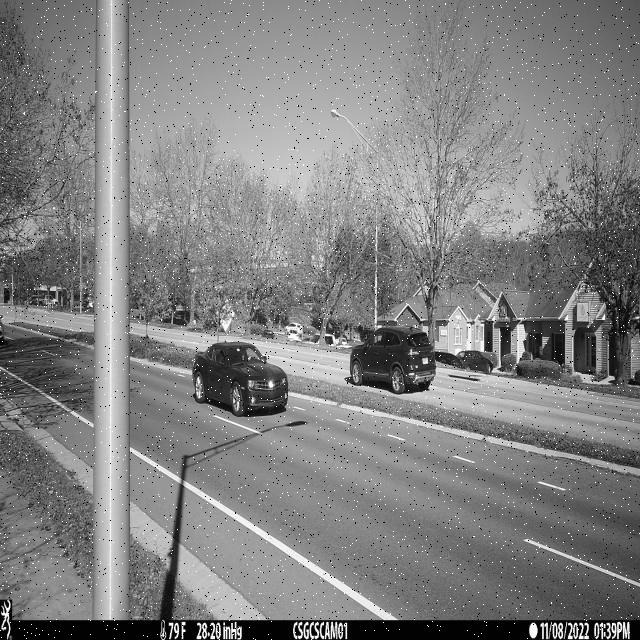Sedan: (192, 341, 289, 417)
